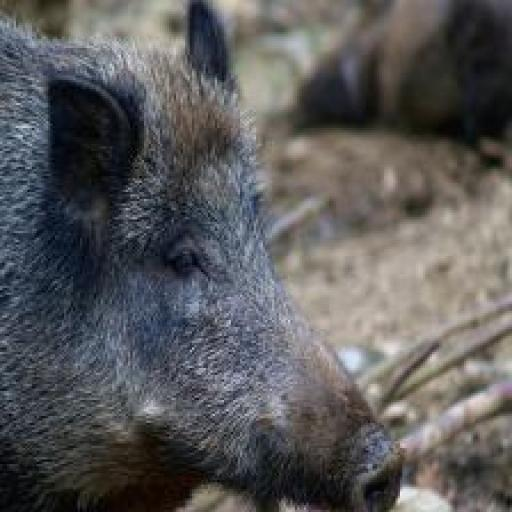Pig: (0, 0, 405, 512)
